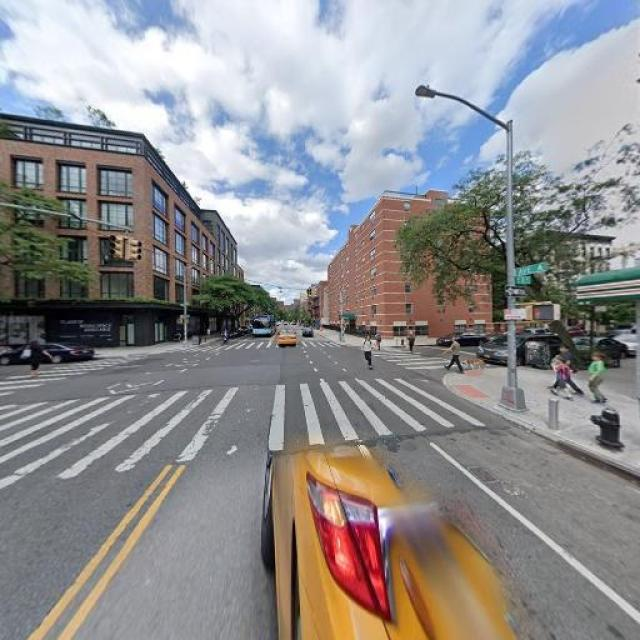Building: (1, 120, 219, 348), (329, 190, 485, 340)
